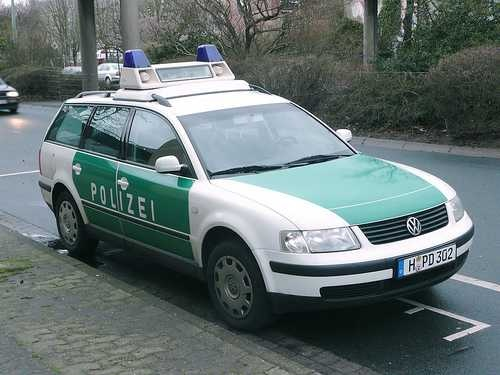Police Car: (38, 41, 477, 318)
